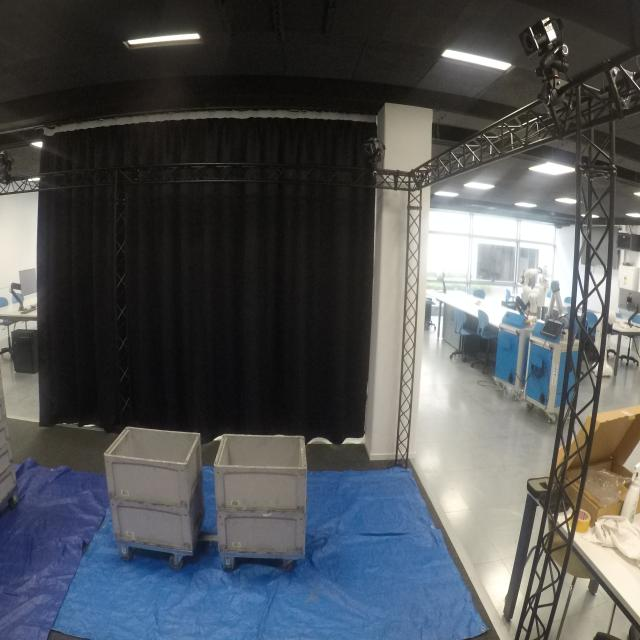Box4G: (102, 424, 206, 508), (212, 434, 309, 516), (110, 488, 206, 557), (214, 508, 310, 564)
